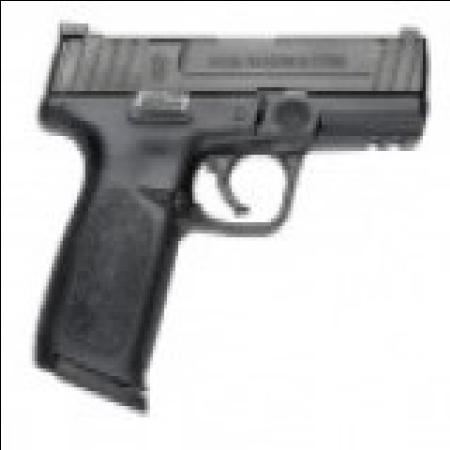Pistol: (36, 7, 436, 408)
